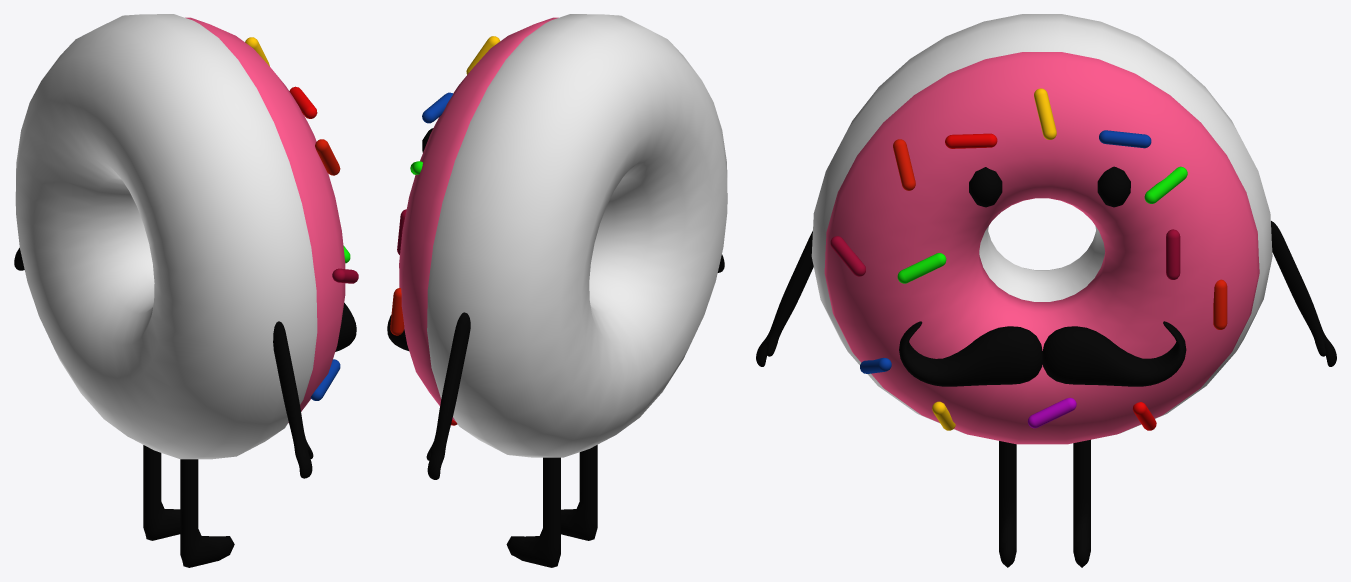
Rendered from Don Ut - Pink.FBX.
3 renders of one model, left to right at view 1: azimuth 30°, elevation 25°; view 2: azimuth 150°, elevation 25°; view 3: azimuth 270°, elevation 25°, orthographic.
Parts seen in each view (by area): view 1: Torus001, Torus002, Box002, Box003, Box001, Box005, Capsule304, Capsule311, Capsule307; view 2: Torus001, Torus002, Box001, Box004, Box002, Capsule309, Capsule312; view 3: Torus002, Torus001, Box006, Box005, Box004, Box001, Box002, Box003, Sphere002, Sphere001, Capsule311, Capsule308 (+5 smaller).
Part boxes in pixels (left/top/right/bottom): Torus001: left=15, top=14, right=317, bottom=459; Torus002: left=185, top=17, right=345, bottom=422; Box002: left=180, top=459, right=234, bottom=567; Box003: left=273, top=321, right=313, bottom=478; Box001: left=143, top=445, right=180, bottom=540; Box005: left=335, top=303, right=356, bottom=351; Capsule304: left=315, top=139, right=340, bottom=175; Capsule311: left=289, top=86, right=317, bottom=118; Capsule307: left=310, top=359, right=340, bottom=400; Torus001: left=427, top=14, right=727, bottom=457; Torus002: left=399, top=17, right=558, bottom=421; Box001: left=506, top=457, right=560, bottom=567; Box004: left=426, top=312, right=470, bottom=479; Box002: left=561, top=445, right=597, bottom=540; Capsule309: left=390, top=288, right=404, bottom=335; Capsule312: left=422, top=92, right=452, bottom=123; Torus002: left=824, top=52, right=1259, bottom=444; Torus001: left=811, top=14, right=1272, bottom=433; Box006: left=1042, top=321, right=1186, bottom=386; Box005: left=899, top=321, right=1042, bottom=386; Box004: left=1271, top=221, right=1336, bottom=366; Box001: left=1073, top=439, right=1090, bottom=567; Box002: left=999, top=441, right=1016, bottom=567; Box003: left=756, top=231, right=813, bottom=366; Sphere002: left=1097, top=166, right=1130, bottom=207; Sphere001: left=969, top=167, right=1002, bottom=207; Capsule311: left=945, top=133, right=997, bottom=148; Capsule308: left=1034, top=88, right=1056, bottom=139.
Bounding box in the file's own units: 12.78 × 33.1 × 32.95.
